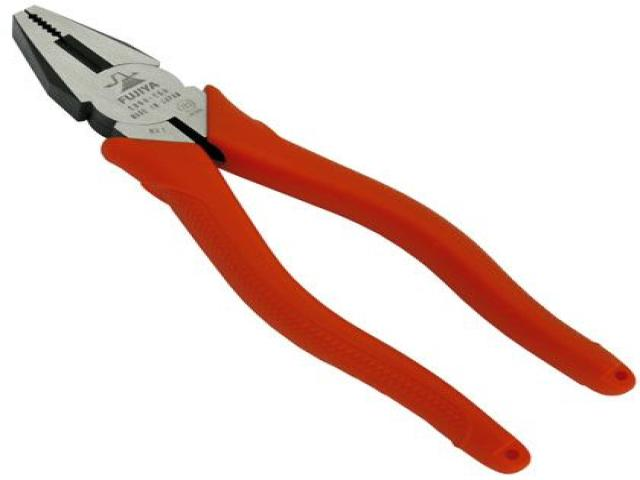Pliers: (14, 6, 632, 477)
